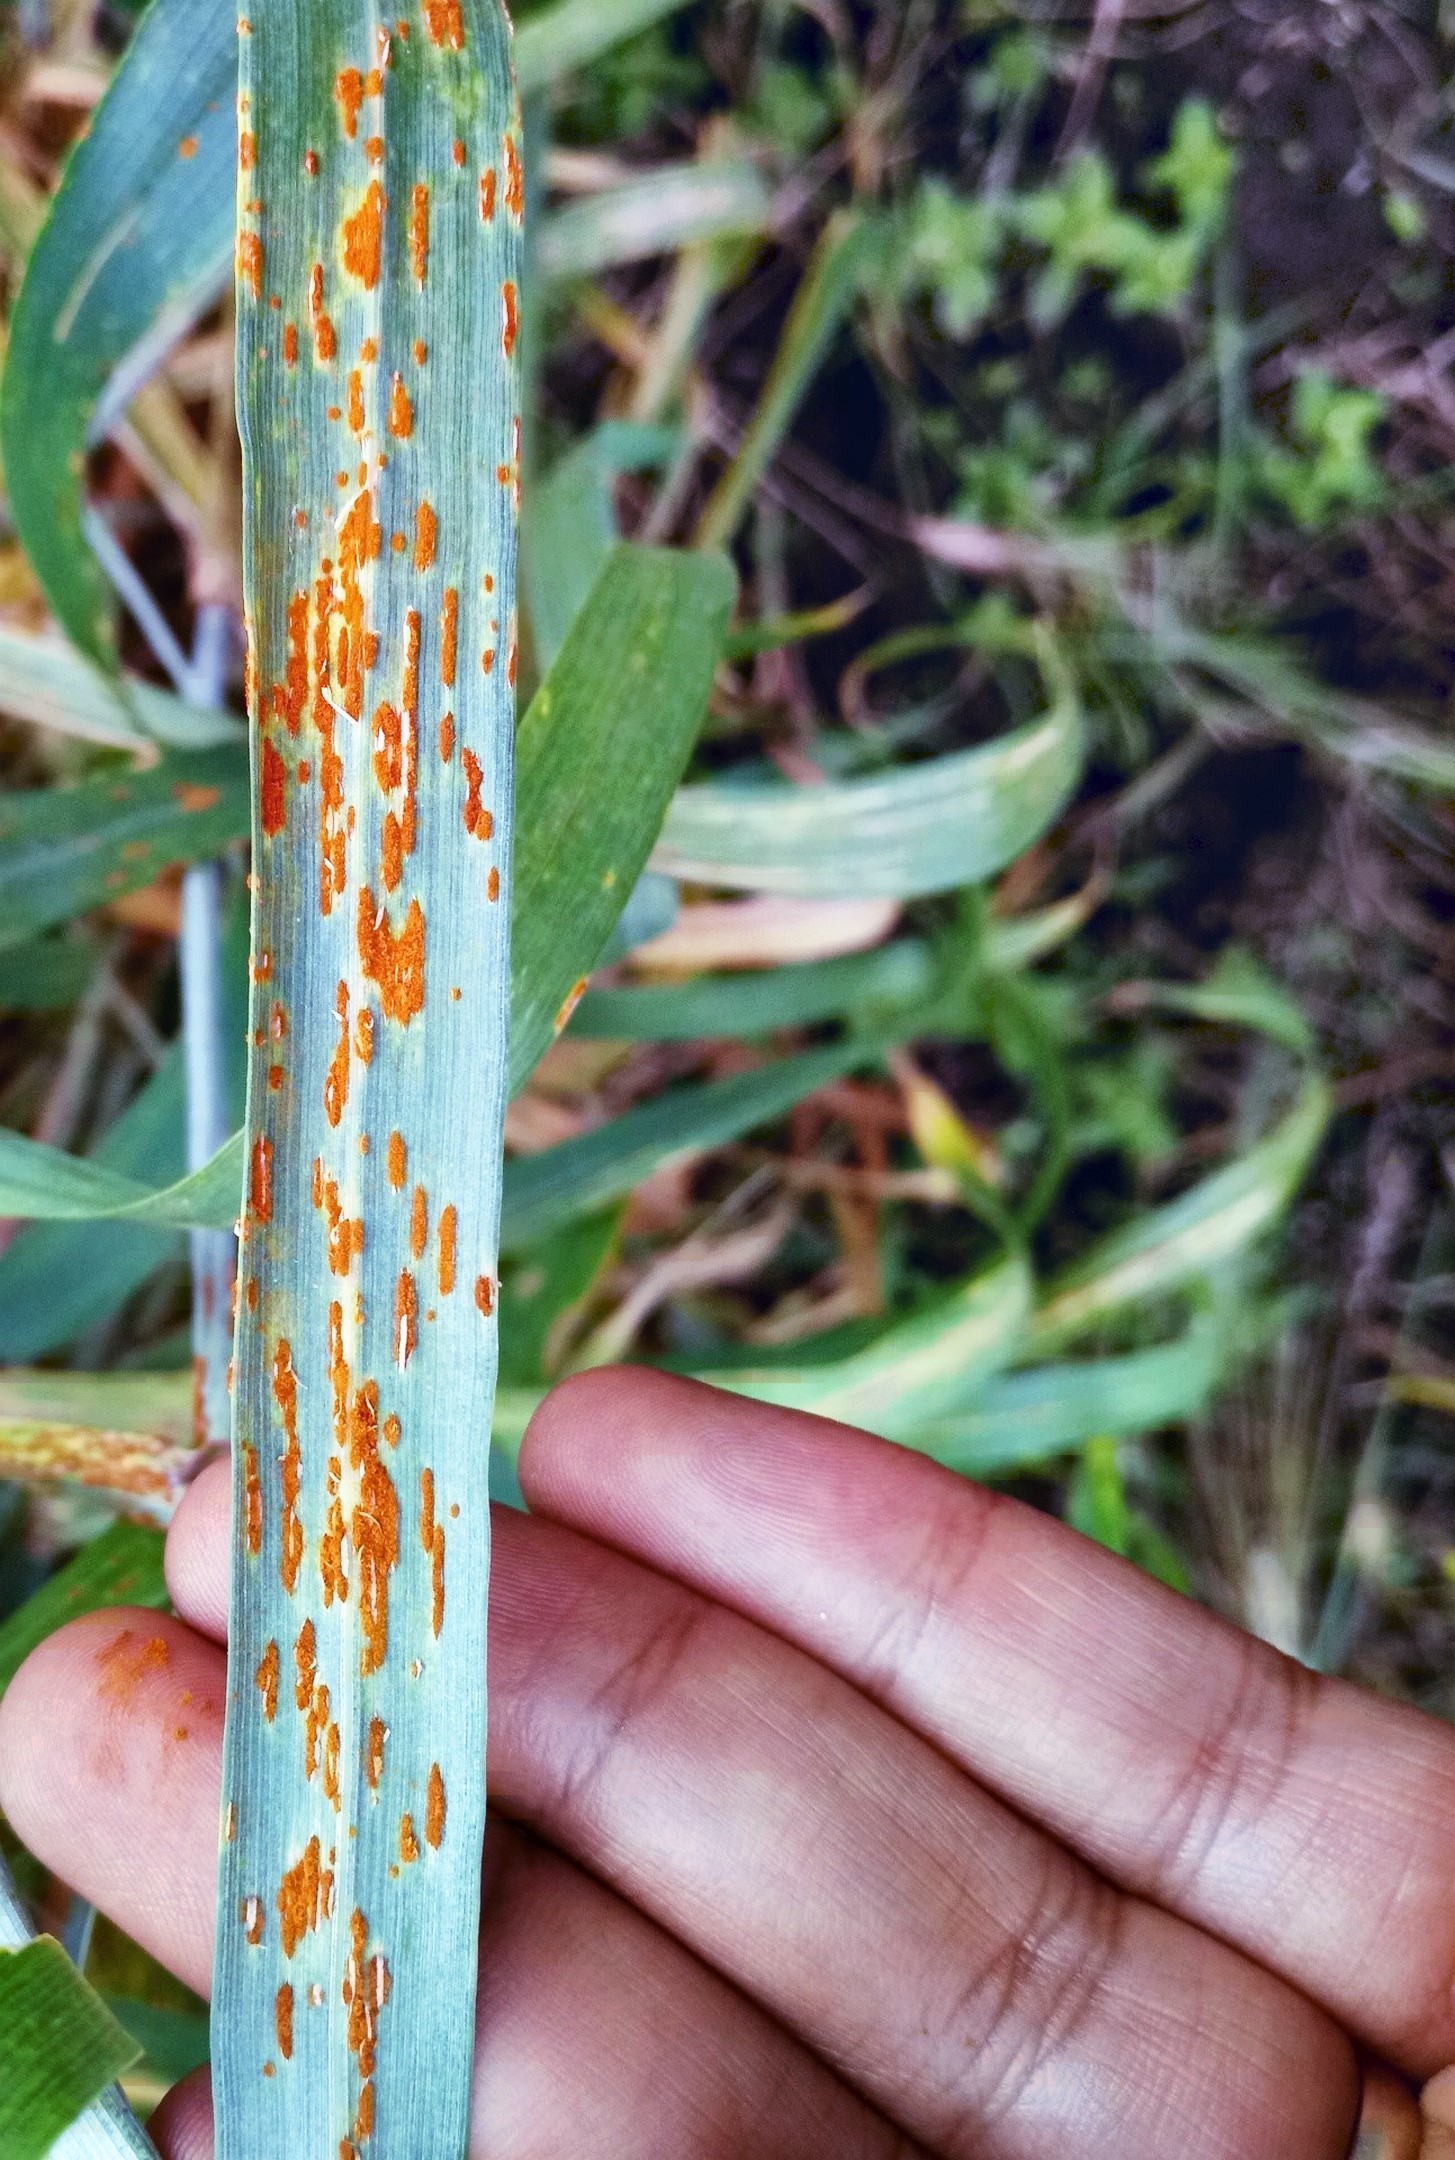Leaf Rust: (151, 117, 541, 2077)
